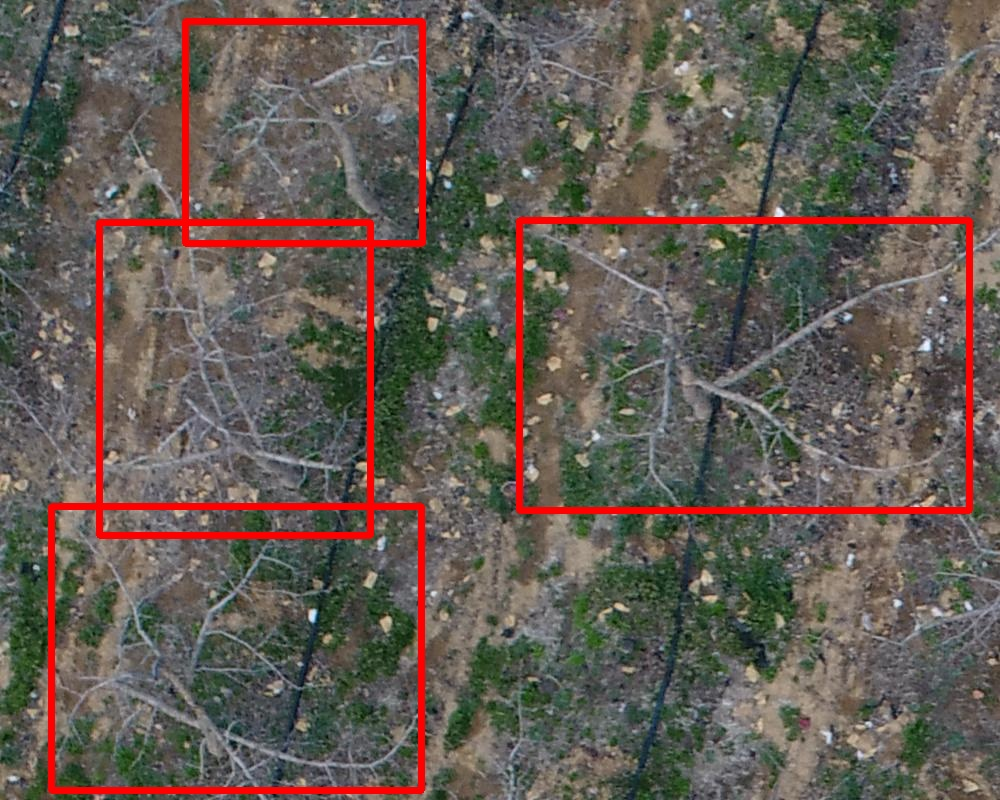apple: (519, 220, 969, 510), (51, 506, 421, 790), (99, 222, 370, 535), (185, 21, 422, 243)
